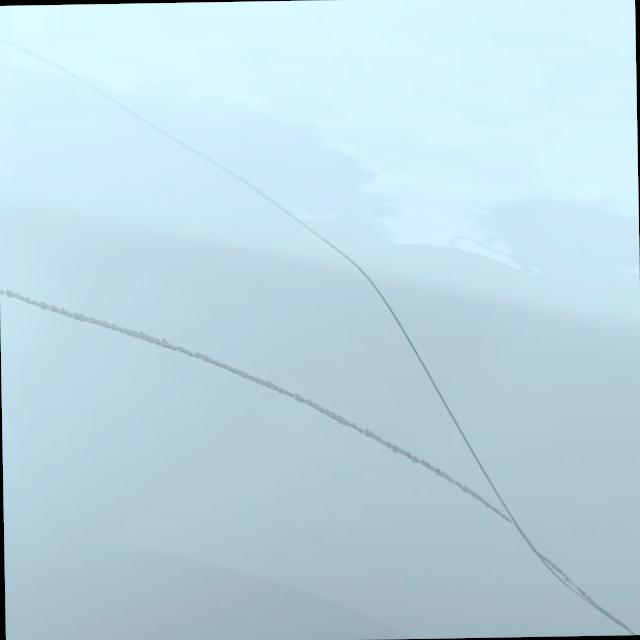crack: (32, 279, 453, 504), (158, 105, 442, 407)
